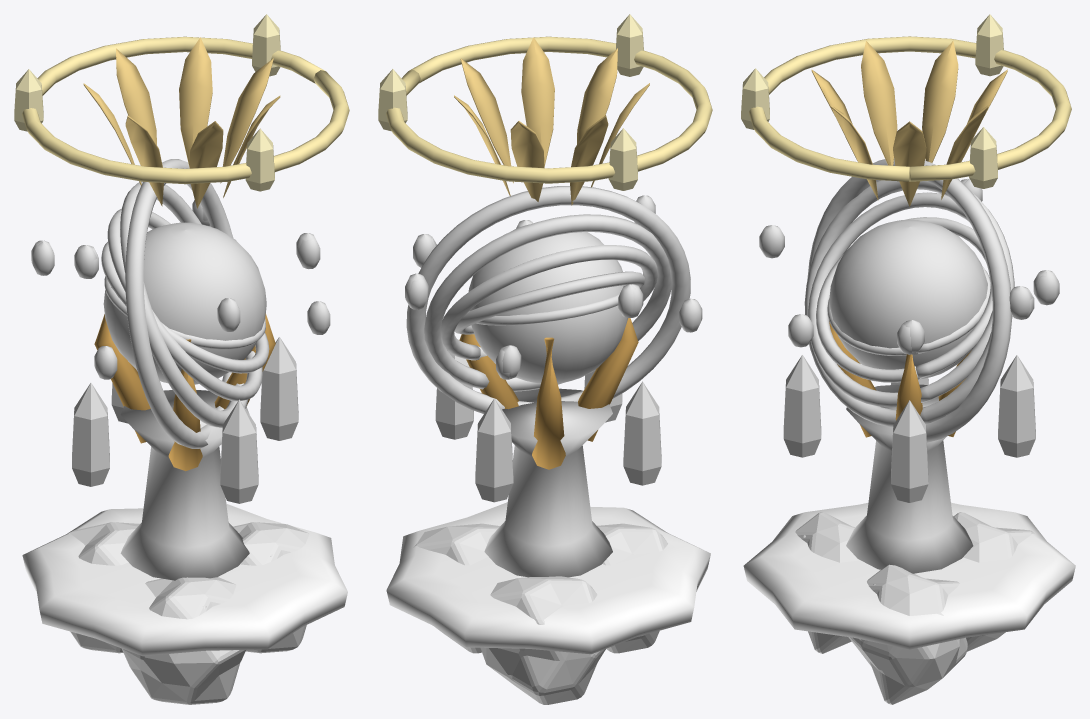
Rendered from gravity-5.fbx.
3 renders of one model, left to right at view 1: azimuth 30°, elevation 25°; view 2: azimuth 150°, elevation 25°; view 3: azimuth 270°, elevation 25°, orthographic.
Visible parts, largest first — view 1: SuperPlinth, Ring03.001_SuperGlow, Turret_Metal, Base_Stone, Singularity, GravityPylon, Turret_Glow, Accretion.005, Petals_Organic, Accretion.004, Accretion.003, Accretion.002 (+1 smaller); view 2: SuperPlinth, Turret_Metal, Ring03.001_SuperGlow, GravityPylon, Base_Stone, Singularity, Accretion.005, Accretion.004, Turret_Glow, Accretion.003, Petals_Organic, Accretion.002 (+1 smaller); view 3: SuperPlinth, Singularity, Ring03.001_SuperGlow, Base_Stone, Turret_Metal, GravityPylon, Turret_Glow, Accretion.005, Accretion.003, Accretion.004, Accretion.002, Petals_Organic (+1 smaller).
Part boxes in pixels (bbox=[...]): SuperPlinth: bbox=[22, 503, 347, 656]; Ring03.001_SuperGlow: bbox=[14, 14, 349, 191]; Turret_Metal: bbox=[83, 37, 280, 471]; Base_Stone: bbox=[66, 522, 309, 704]; Singularity: bbox=[103, 222, 266, 384]; GravityPylon: bbox=[120, 390, 249, 580]; Turret_Glow: bbox=[72, 337, 298, 503]; Accretion.005: bbox=[125, 159, 233, 448]; Petals_Organic: bbox=[31, 200, 330, 379]; Accretion.004: bbox=[120, 181, 248, 427]; Accretion.003: bbox=[107, 208, 262, 401]; Accretion.002: bbox=[101, 242, 269, 373]; SuperPlinth: bbox=[386, 502, 710, 654]; Turret_Metal: bbox=[454, 37, 649, 469]; Ring03.001_SuperGlow: bbox=[378, 14, 712, 190]; GravityPylon: bbox=[484, 388, 612, 577]; Base_Stone: bbox=[413, 523, 667, 704]; Singularity: bbox=[468, 224, 628, 383]; Accretion.005: bbox=[406, 186, 690, 413]; Accretion.004: bbox=[424, 214, 671, 391]; Turret_Glow: bbox=[435, 350, 661, 502]; Accretion.003: bbox=[440, 245, 657, 360]; Petals_Organic: bbox=[405, 195, 702, 379]; Accretion.002: bbox=[454, 271, 644, 334]; SuperPlinth: bbox=[743, 502, 1075, 649]; Singularity: bbox=[829, 219, 987, 379]; Ring03.001_SuperGlow: bbox=[741, 14, 1071, 188]; Base_Stone: bbox=[795, 512, 1034, 704]; Turret_Metal: bbox=[811, 41, 1007, 437]; GravityPylon: bbox=[846, 384, 973, 573]; Turret_Glow: bbox=[783, 355, 1035, 502]; Accretion.005: bbox=[807, 158, 1011, 442]; Accretion.003: bbox=[808, 192, 992, 407]; Accretion.004: bbox=[804, 180, 1014, 427]; Accretion.002: bbox=[816, 217, 992, 382]; Petals_Organic: bbox=[759, 178, 1059, 354].
Size of the model in its own units: 111 by 218 by 112.
